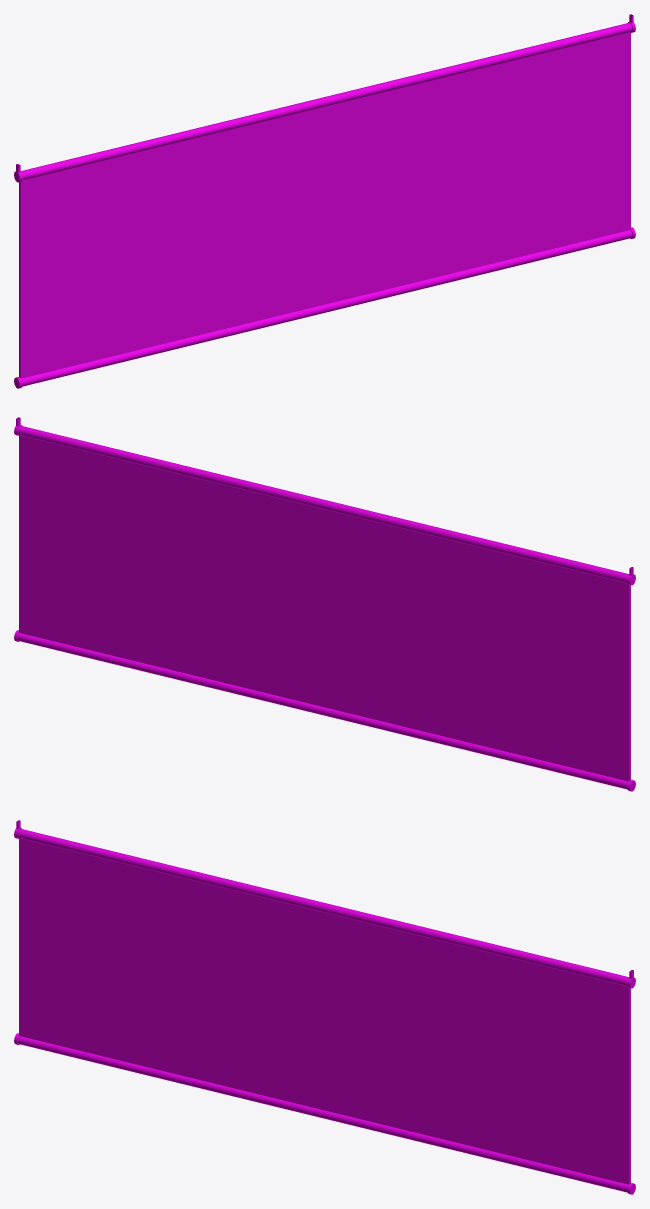
Rendered from Cortina_LowPoly_v1.fbx.
3 views of the same model, one above another, from view 1: azimuth 30°, elevation 25°; view 2: azimuth 150°, elevation 25°; view 3: azimuth 330°, elevation 25° (orthographic).
Visible parts, largest first — view 1: pCube10, pCylinder10, pCylinder15; view 2: pCube10, pCylinder10, pCylinder15; view 3: pCube10, pCylinder10, pCylinder15.
Part boxes in pixels (x1,y1,x2,y2): pCube10: (19, 32, 630, 378); pCylinder10: (20, 22, 632, 180); pCylinder15: (21, 230, 632, 386); pCube10: (19, 435, 630, 781); pCylinder10: (17, 425, 629, 583); pCylinder15: (17, 633, 628, 789); pCube10: (19, 838, 630, 1184); pCylinder10: (17, 828, 629, 986); pCylinder15: (17, 1036, 628, 1192).
Size of the model in its own units: 3.06 by 1.06 by 0.0501.
